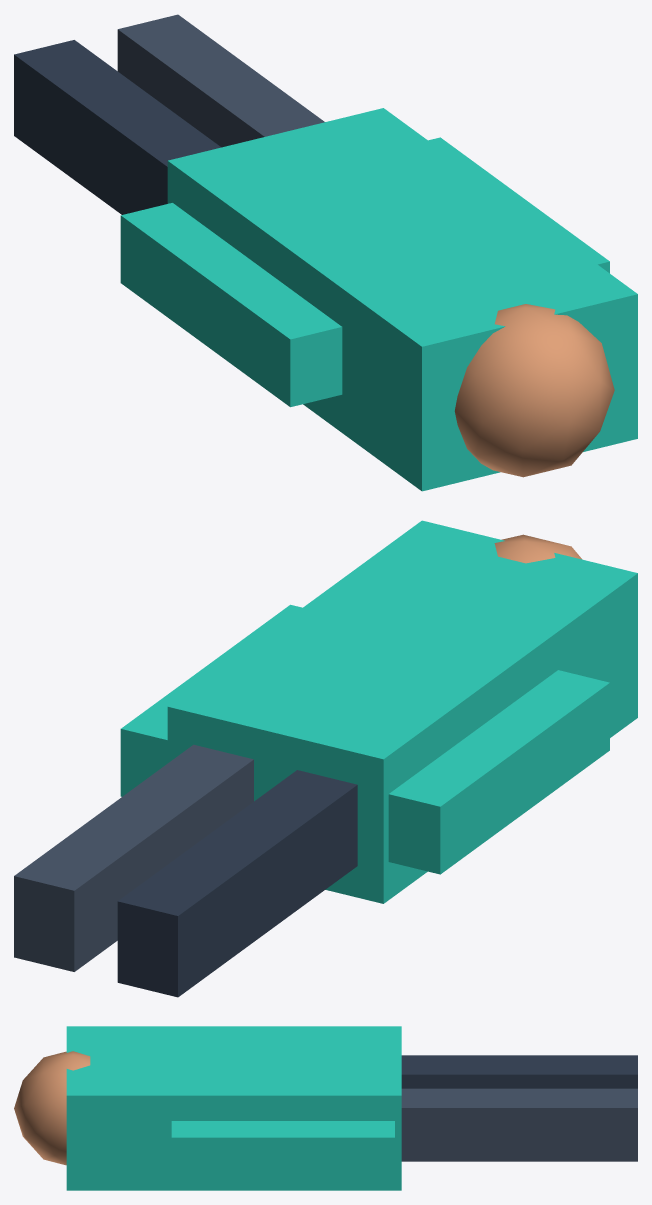
Rendered from person.adult.glb.
3 renders of one model, top to bottom at view 1: azimuth 30°, elevation 25°; view 2: azimuth 150°, elevation 25°; view 3: azimuth 270°, elevation 25°, orthographic. The views are drawn at different scales.
Visible parts, largest first — view 1: person.adult; view 2: person.adult; view 3: person.adult.
Boxes of the visible parts, x1,y1,x2,y2 form: person.adult: [14, 14, 637, 491]; person.adult: [14, 520, 637, 997]; person.adult: [14, 1026, 637, 1190].
Bounding box in the file's own units: 0.74 × 0.36 × 1.9.
